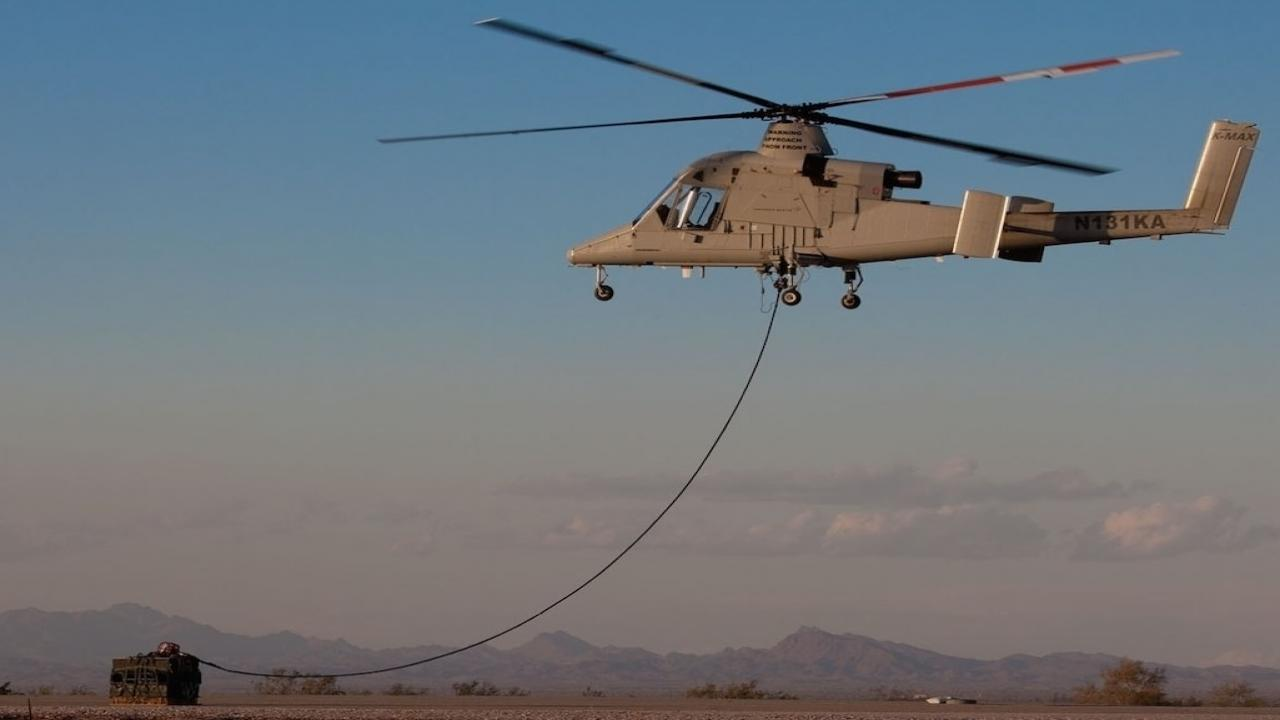Helicopter: (363, 7, 1280, 321)
